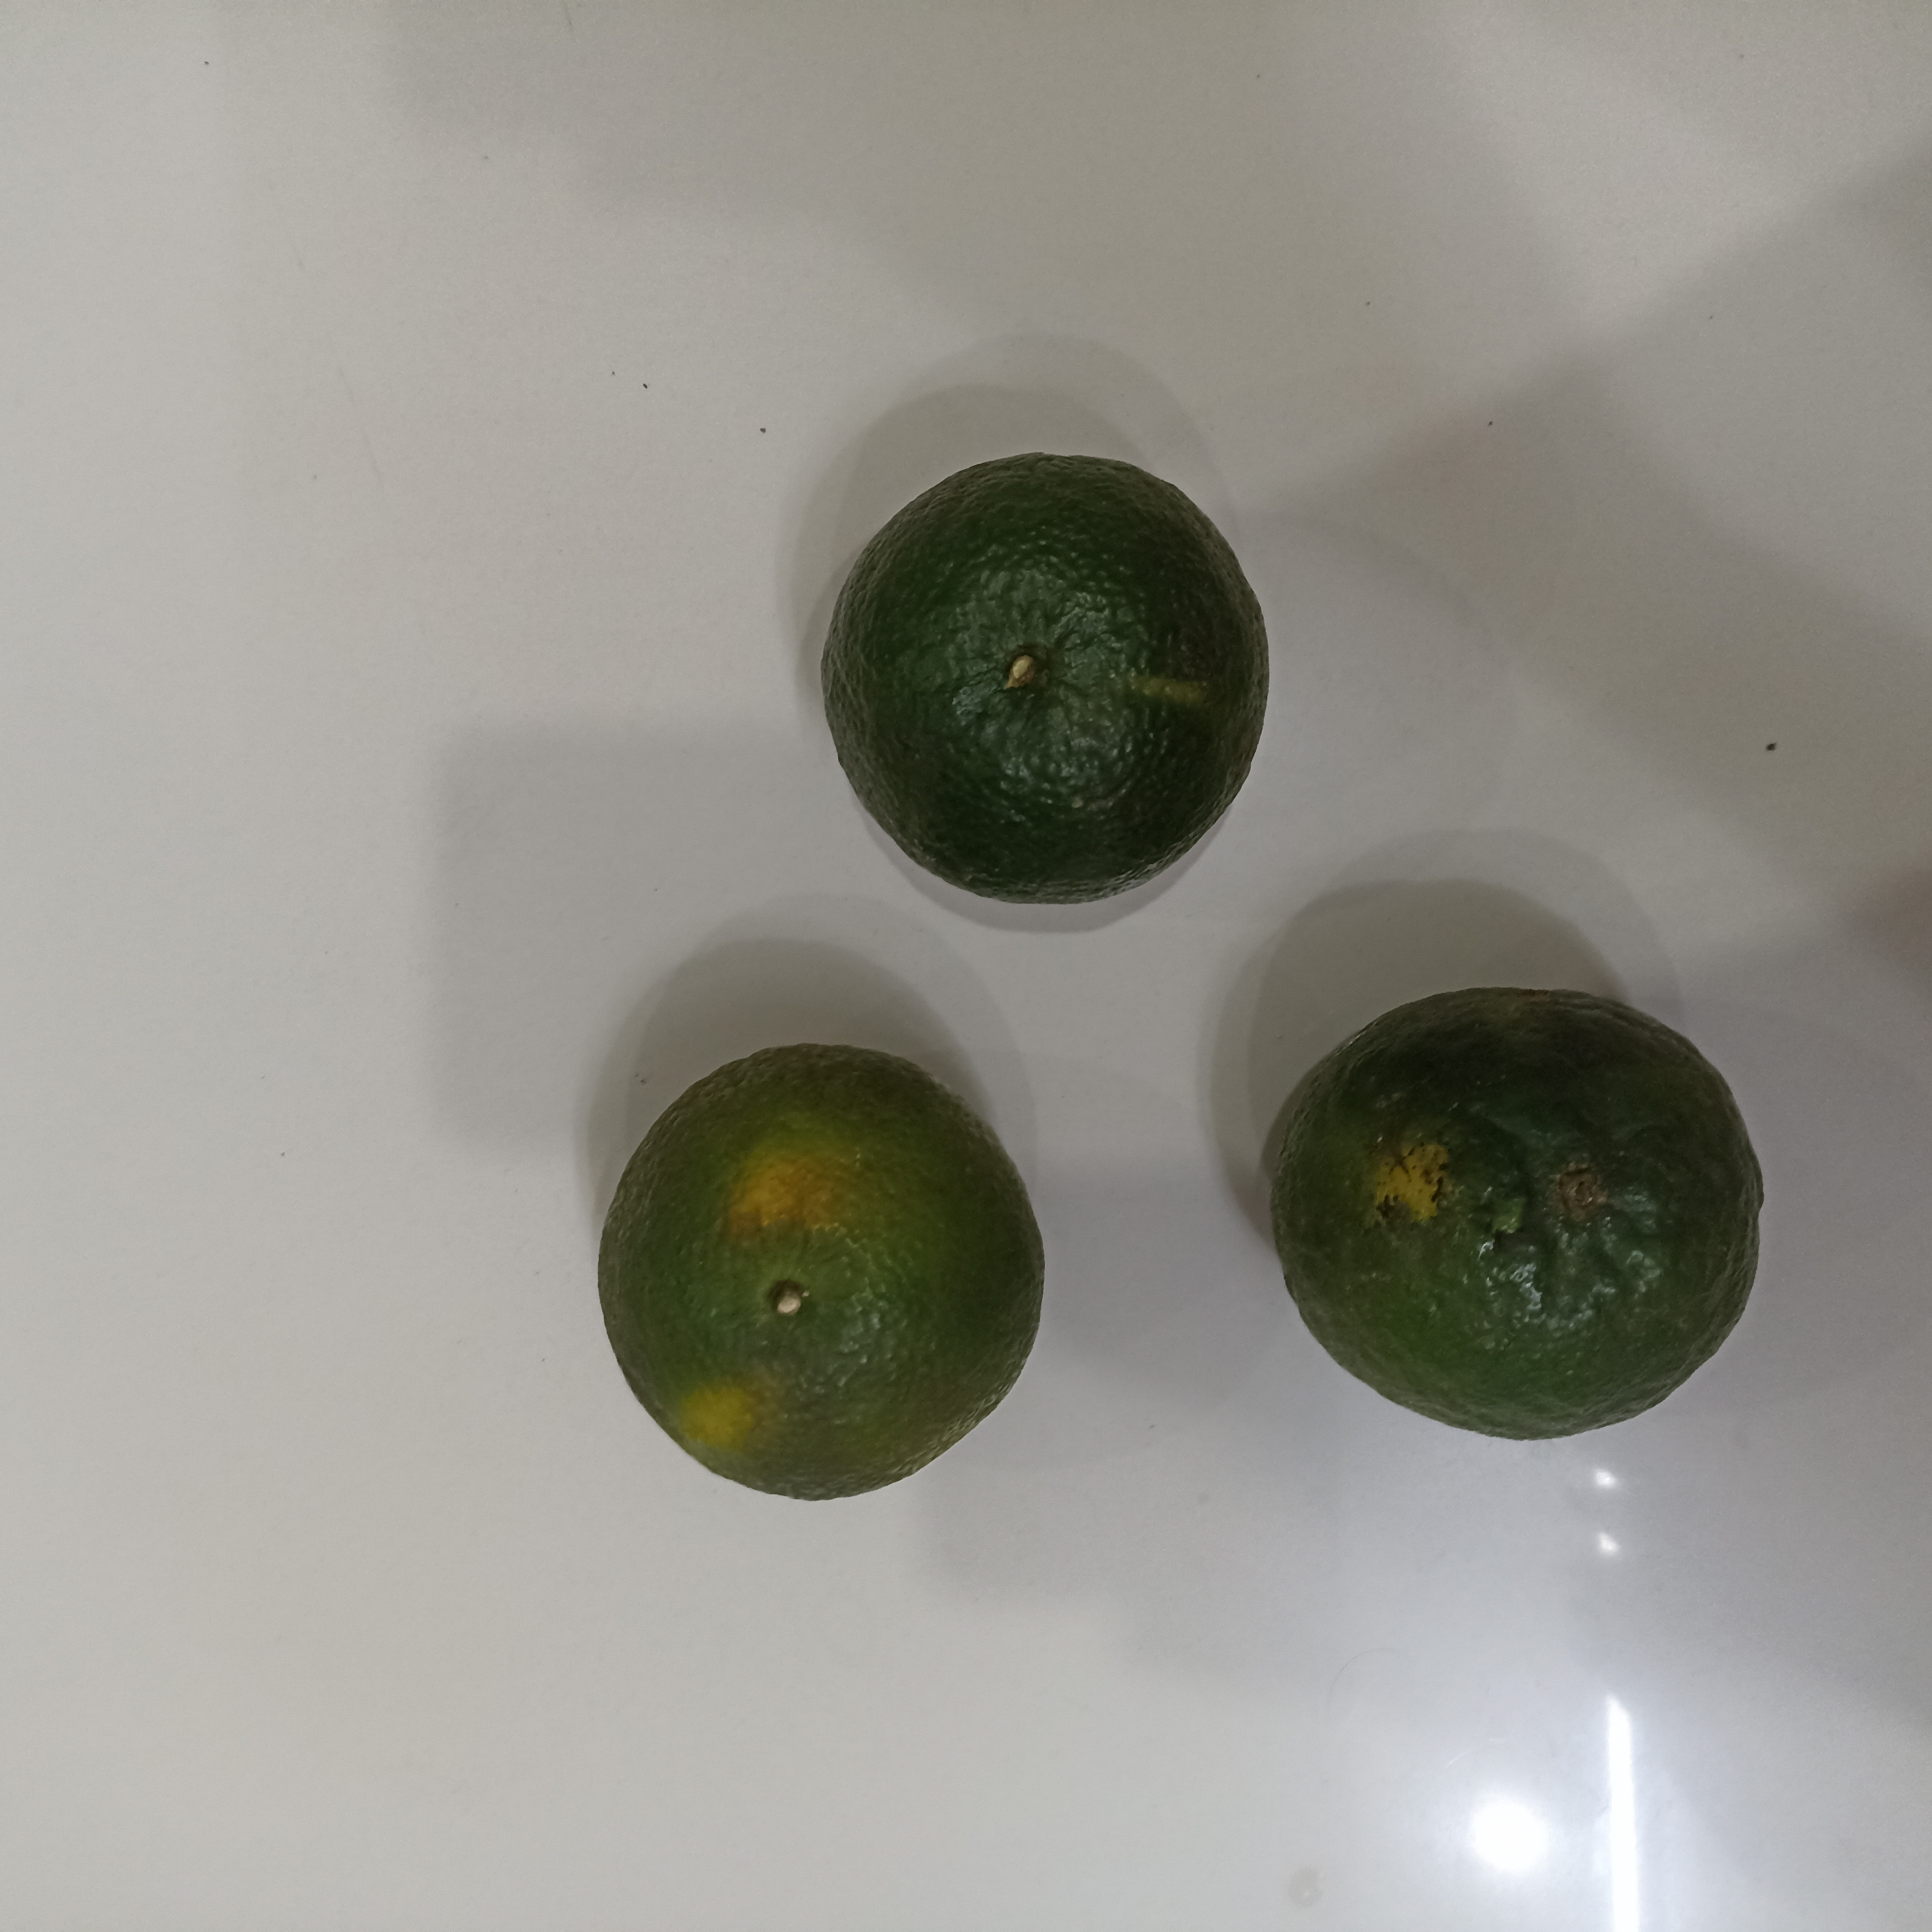Cam: (1267, 982, 1762, 1442), (821, 449, 1272, 913), (596, 1040, 1042, 1502)
